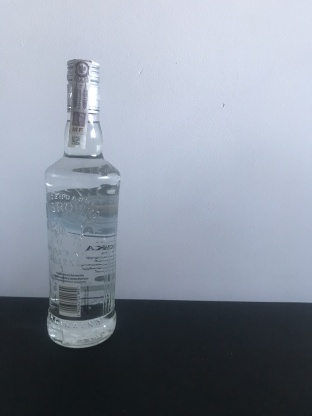nakretka: (64, 56, 102, 117)
